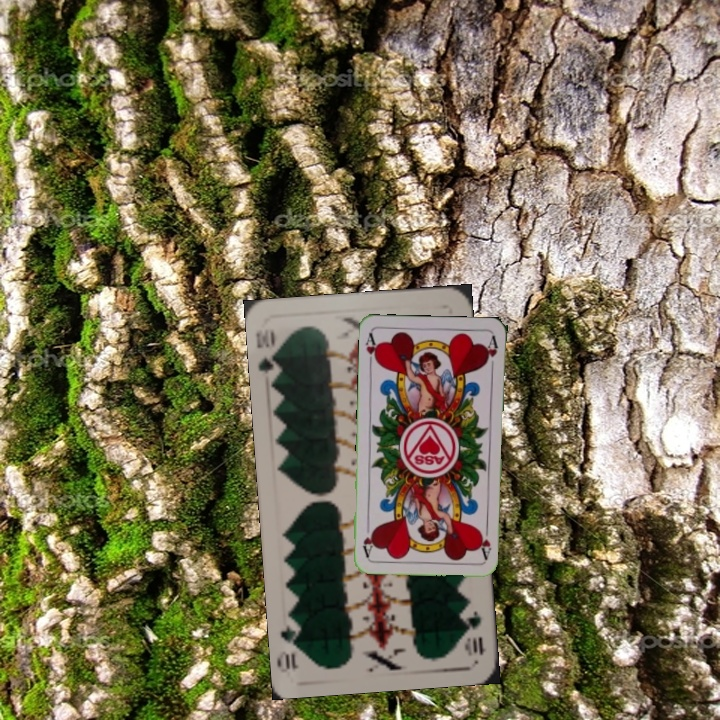G10: (253, 325, 282, 377), (460, 606, 487, 659)
HA: (362, 329, 381, 369), (477, 521, 494, 561)
